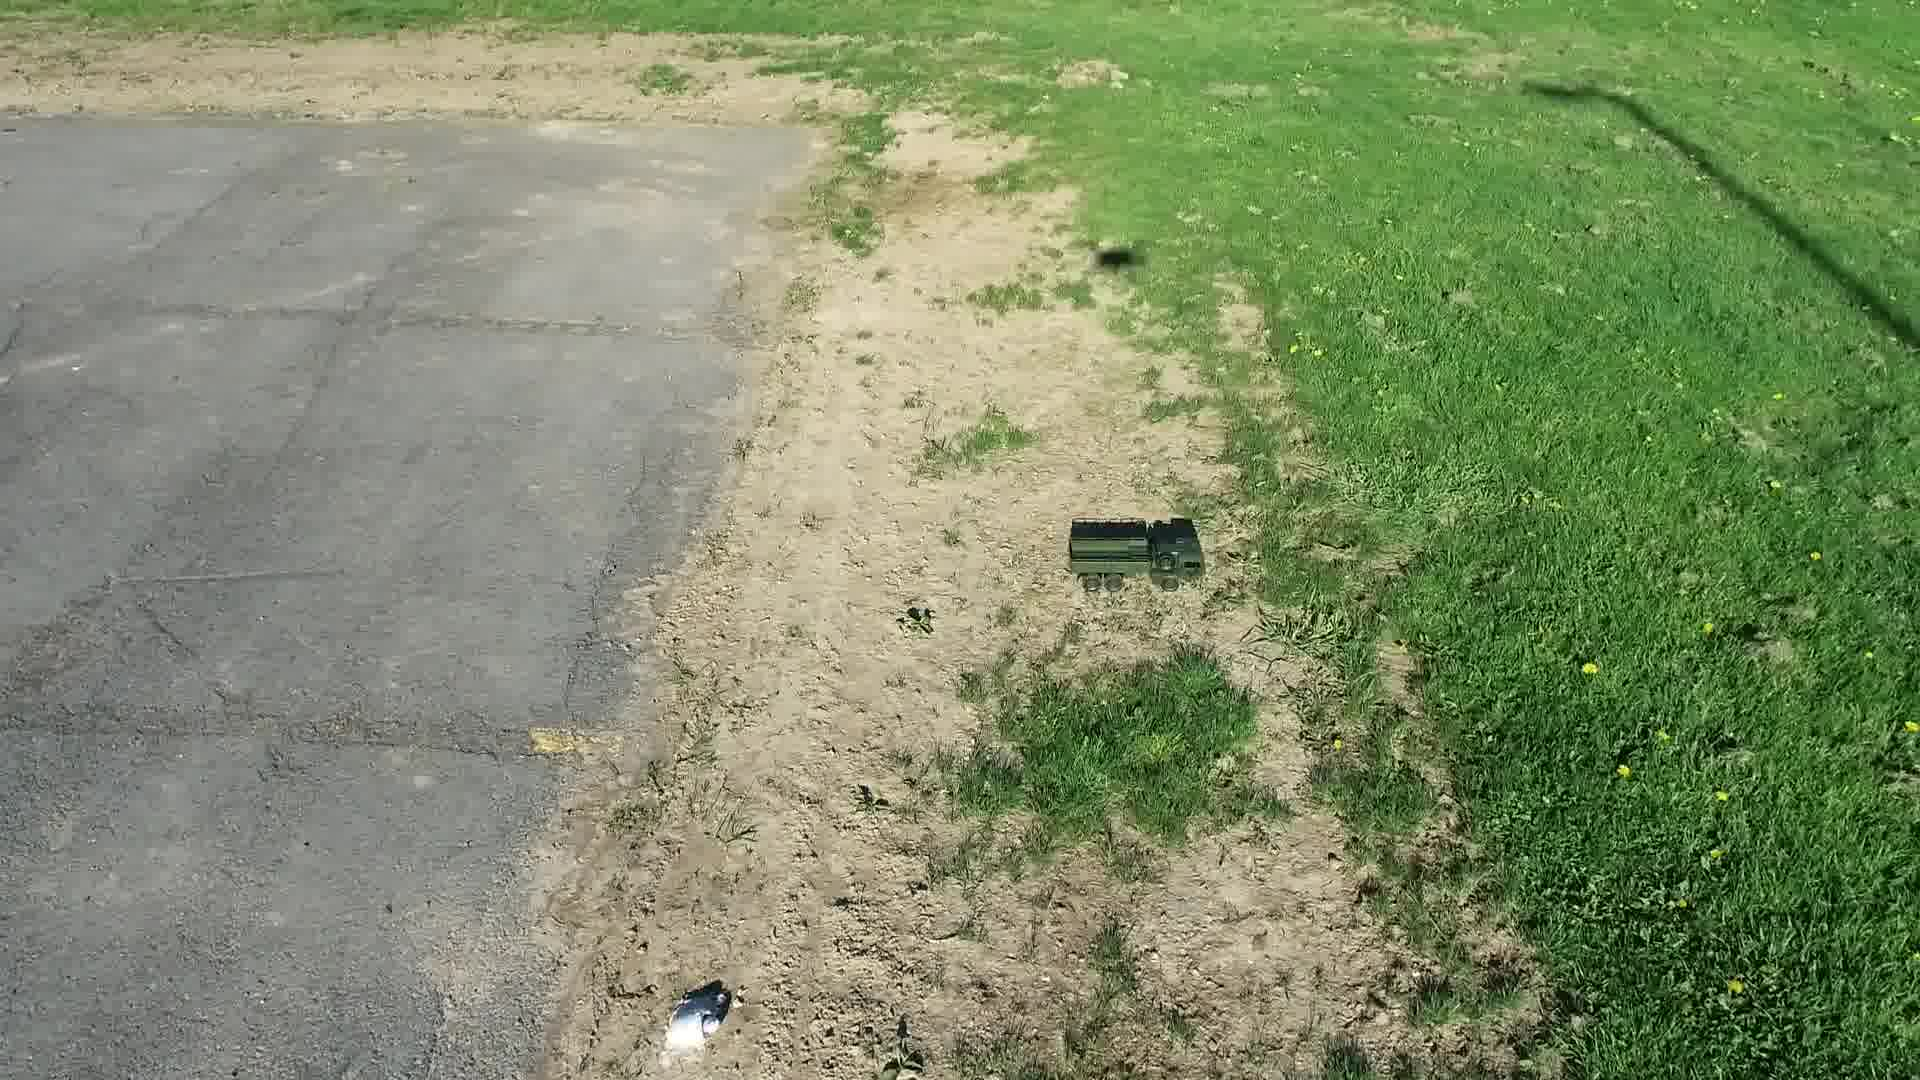transporter9: (1062, 510, 1215, 603)
